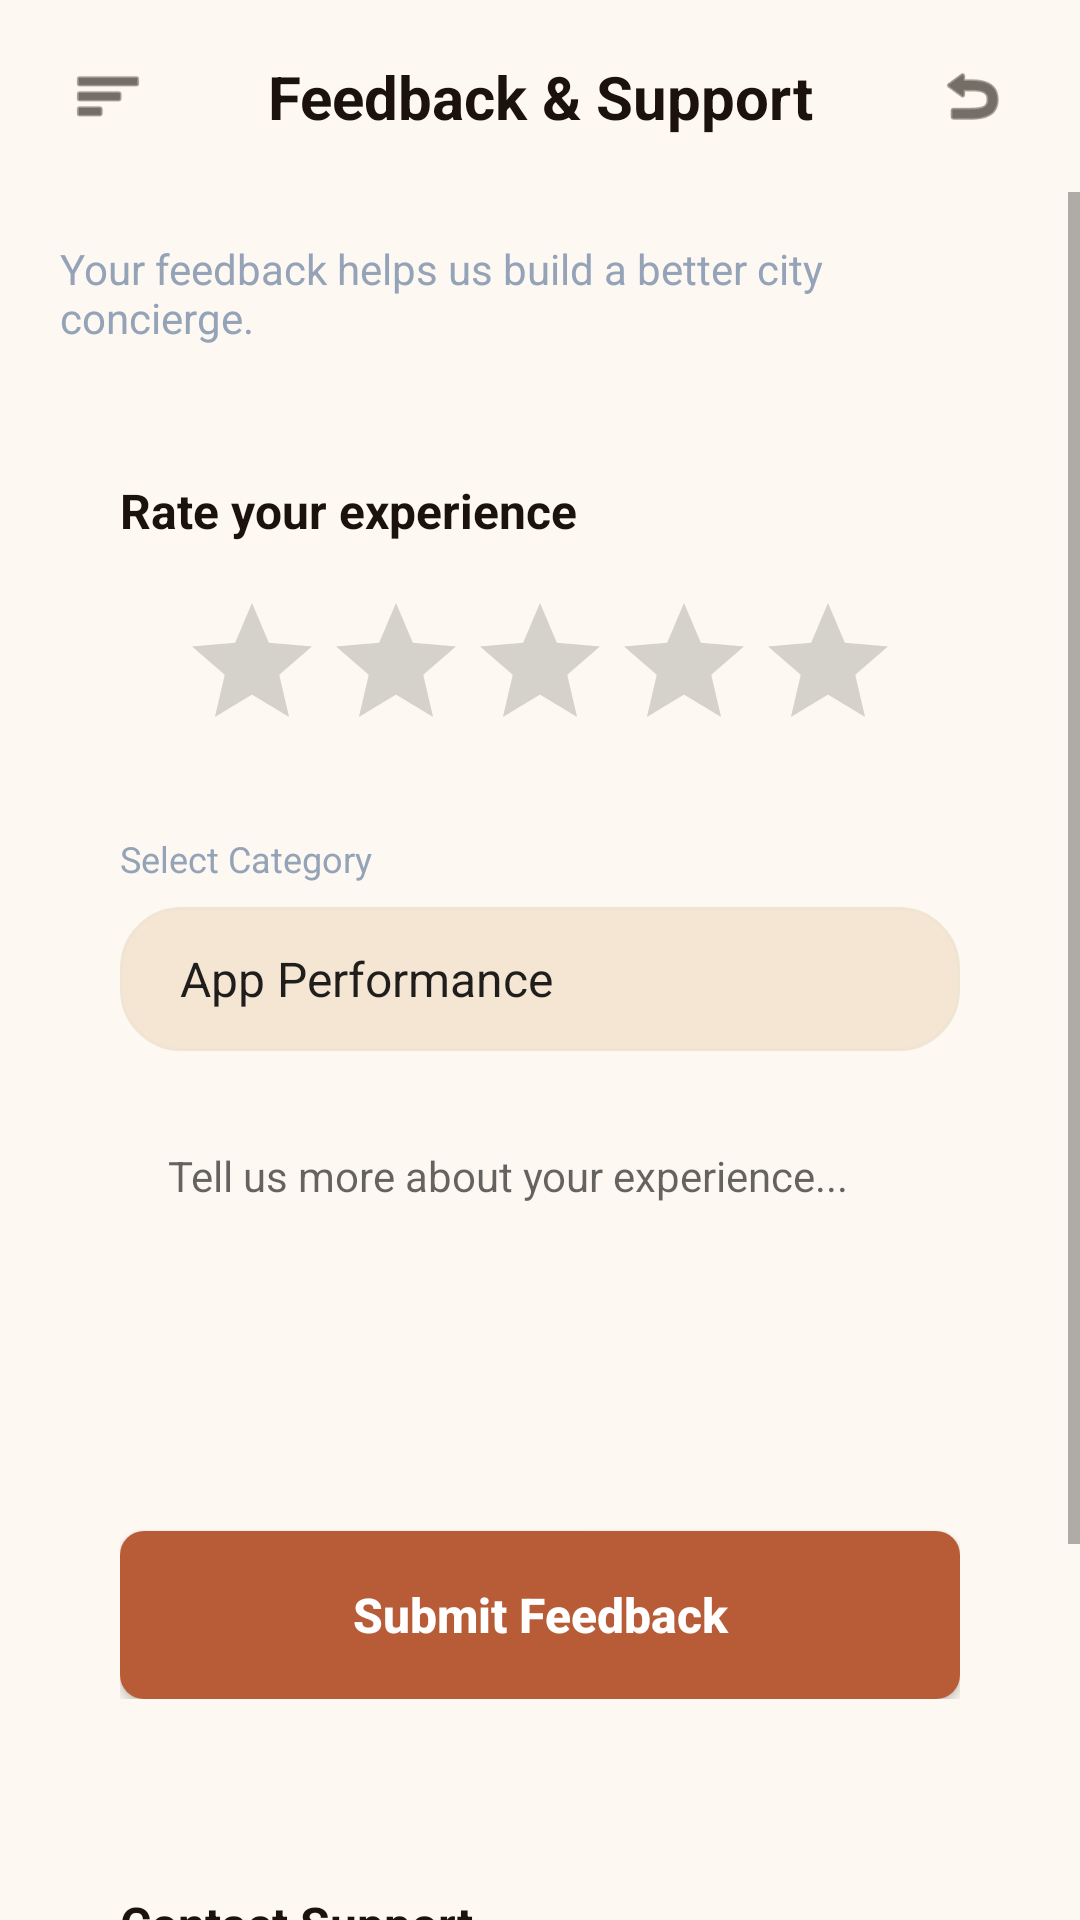

Point at icon controls on the screen. Image size 1080w x 1920h, points as (x,y).
Navigate back: (973,96)
Open Navigation Menu: (108,96)
